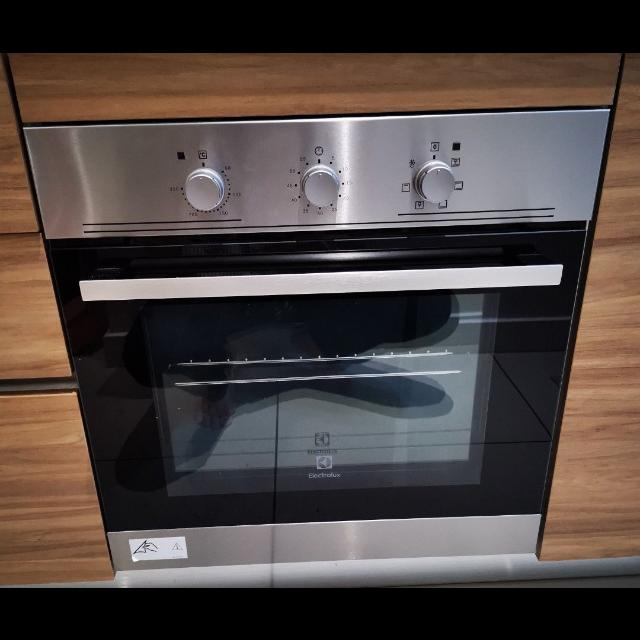Oven: (36, 55, 624, 569)
